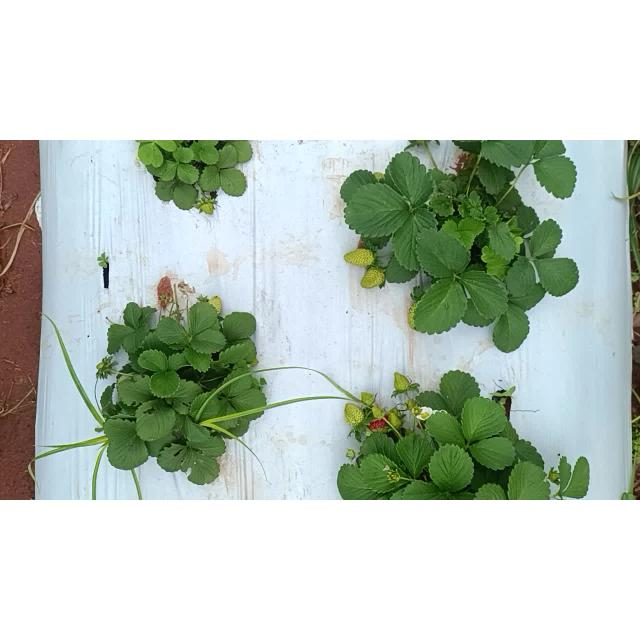no-maduro: (360, 266, 384, 290), (343, 248, 375, 266), (344, 402, 364, 426), (386, 410, 402, 430), (394, 374, 410, 391), (208, 296, 222, 314), (200, 202, 213, 215), (361, 392, 374, 404)
